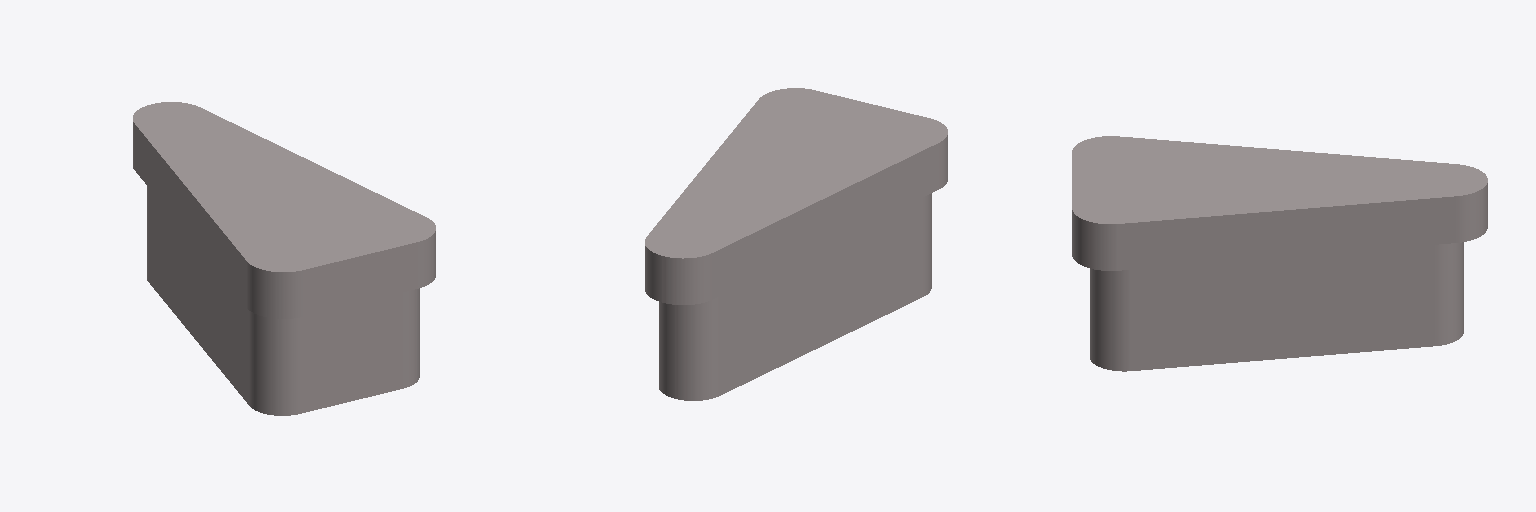
The model's file is 50mmArrow.obj.
The picture shows the model from 3 angles: view 1: azimuth 30°, elevation 25°; view 2: azimuth 150°, elevation 25°; view 3: azimuth 270°, elevation 25°; orthographic projection.
Parts seen in each view (by area): view 1: 50mmArrow.001, 50mmArrow.002; view 2: 50mmArrow.001, 50mmArrow.002; view 3: 50mmArrow.001, 50mmArrow.002.
Part boxes in pixels (x1,y1,x2,y2): 50mmArrow.001: (133,102,435,318); 50mmArrow.002: (147,186,419,415); 50mmArrow.001: (645,88,947,304); 50mmArrow.002: (659,193,931,400); 50mmArrow.001: (1072,136,1487,270); 50mmArrow.002: (1090,242,1463,371).
Bounding box in the file's own units: 25.54 × 20.44 × 50.79.